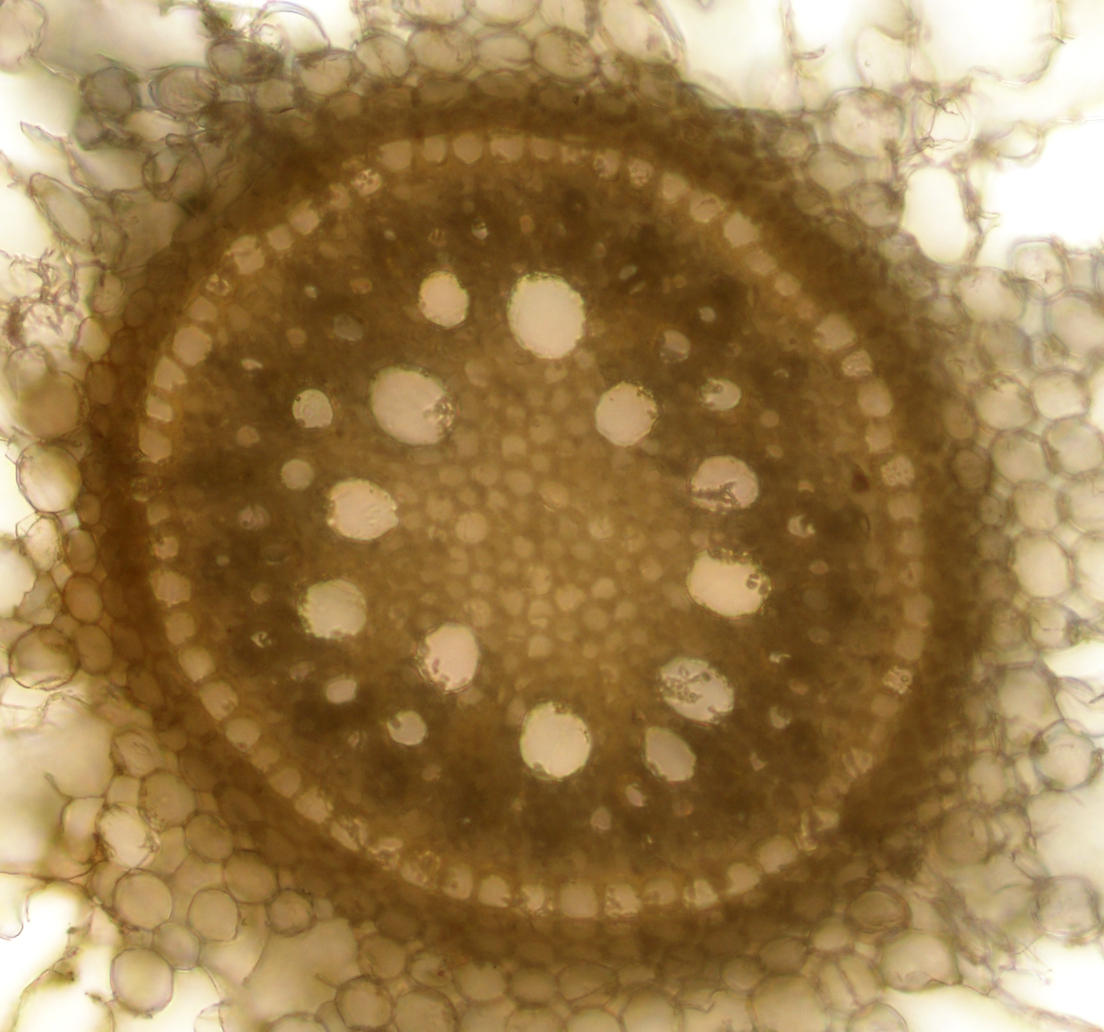lm: (504, 269, 586, 360), (368, 362, 454, 447), (687, 541, 770, 616), (519, 700, 591, 779), (658, 655, 733, 723), (294, 578, 369, 640), (326, 476, 398, 540), (591, 380, 658, 446), (415, 621, 477, 690), (688, 453, 761, 511), (641, 718, 702, 780), (415, 266, 470, 326)
